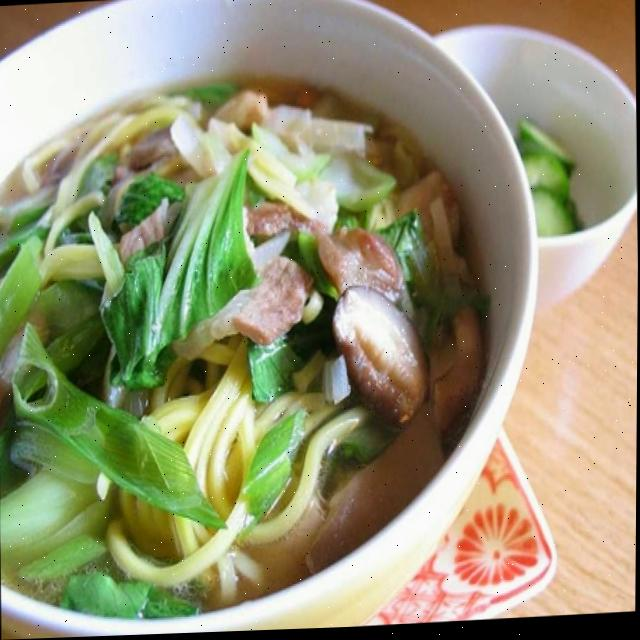面条主食: (0, 89, 443, 571)
